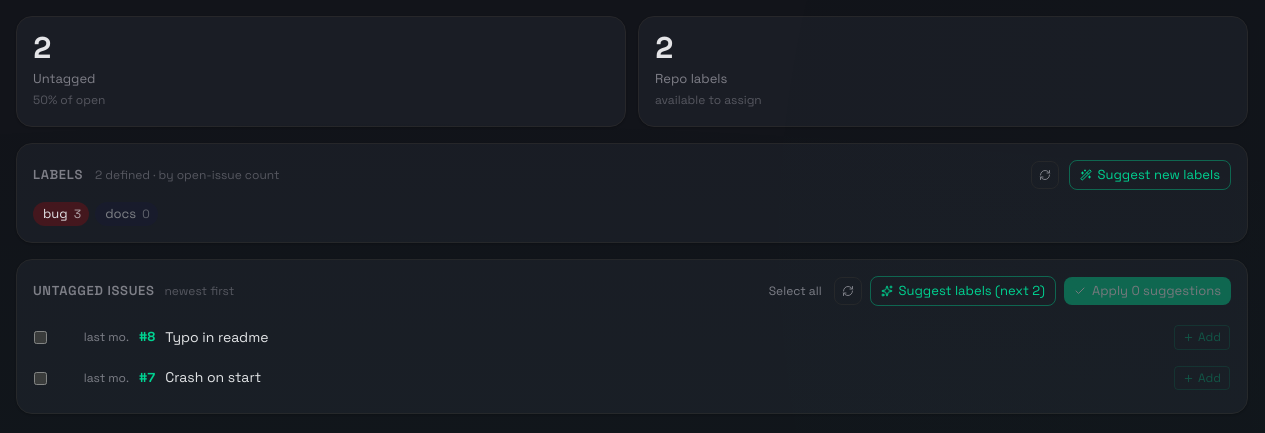
Scenario: TaggingView › applies one issue on its own
Expected: the text "Crash on start" is shown, [165,368,261,386]
Click the button "Suggest labels (next 2)" at x=963, y=291, box [870,276,1056,306]
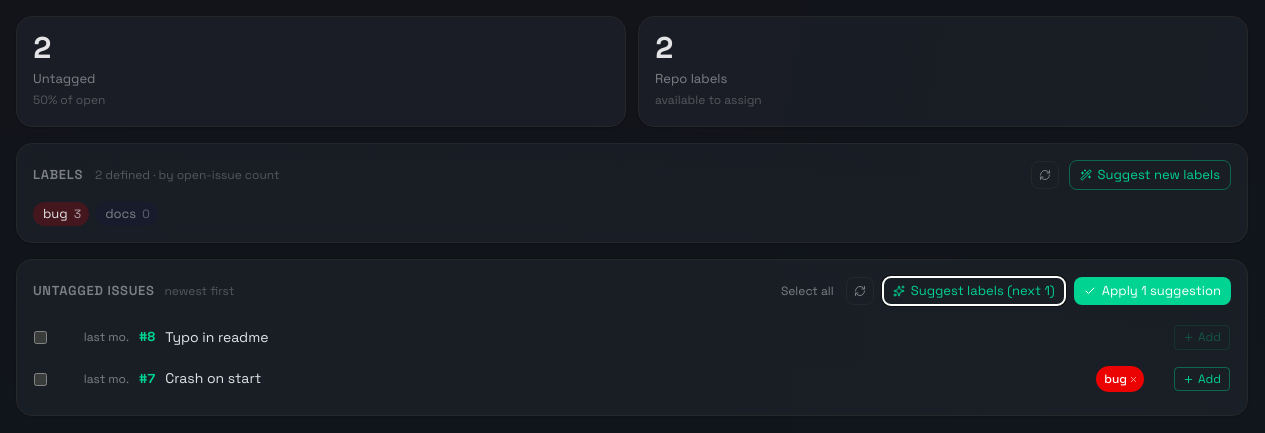
Now the button "Apply 1 suggestion" is shown, box [1074,277,1231,305]
Click the button with aria-label "Add labels to #7" at x=1202, y=379, box [1174,367,1230,391]
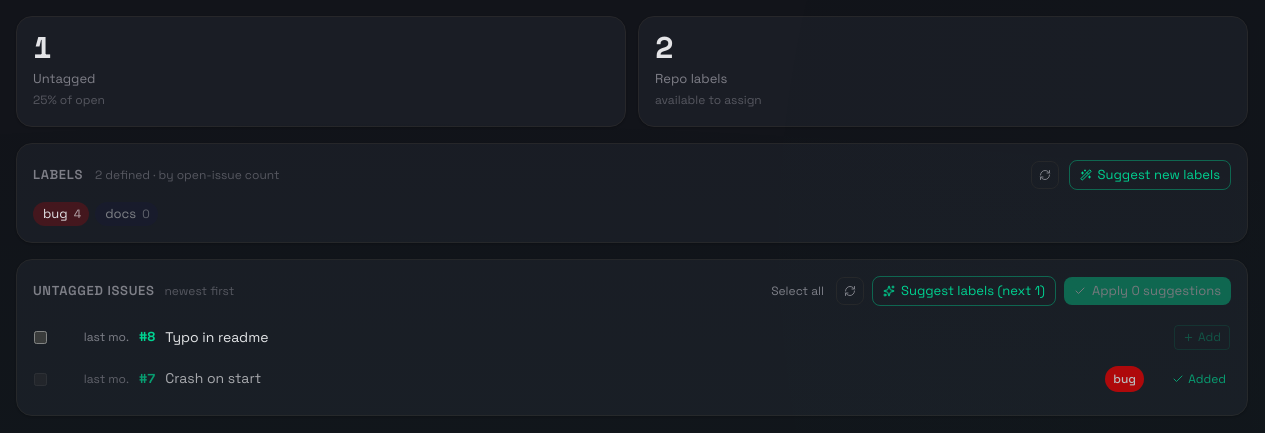
Expected: the text "Crash on start" is shown, [165,369,261,387]
Now the text "Added" is shown, box [1168,370,1230,388]
